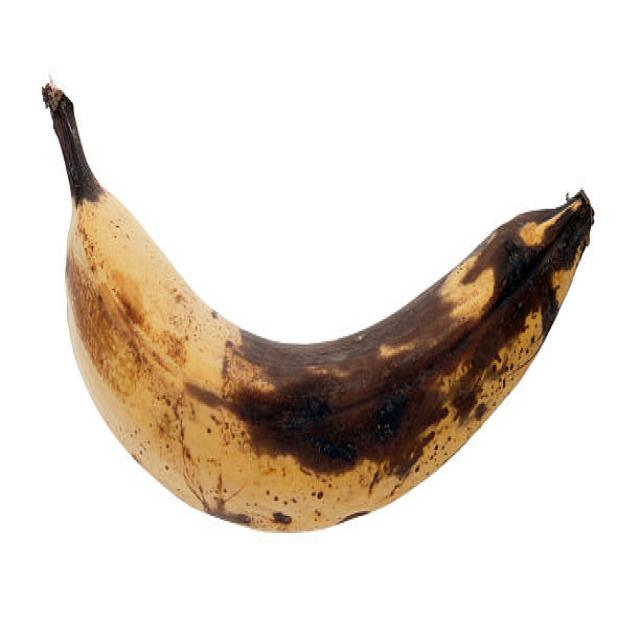overripe: (39, 78, 598, 544)
